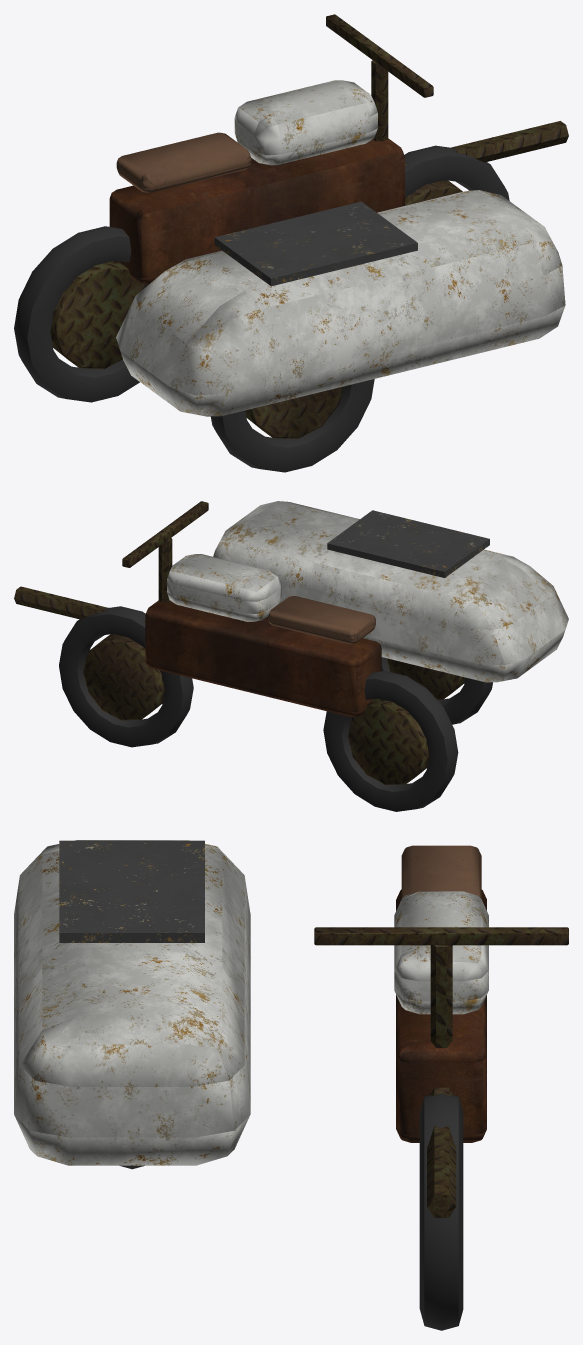
File: veh_moto.gltf
3 renders of one model, top to bottom at view 1: azimuth 30°, elevation 25°; view 2: azimuth 150°, elevation 25°; view 3: azimuth 270°, elevation 25°, orthographic. The views are drawn at different scales.
Parts seen in each view (by area): view 1: box.004, box, torus.001, box.005, box.001, cyl.001, torus.002, box.002, torus, cyl.002, cyl.004, box.003 (+2 smaller); view 2: box.004, box, torus.001, torus, box.005, box.001, cyl.001, cyl, box.002, cyl.004, torus.002, cyl.002 (+2 smaller); view 3: box.004, box.005, box, box.001, torus, box.003, box.002, cyl.004, cyl.003.
Boxes of the visible parts, <box> form: box.004: <box>116,190,565,416</box>; box: <box>109,138,404,283</box>; torus.001: <box>14,226,149,402</box>; box.005: <box>214,201,417,286</box>; box.001: <box>234,80,377,165</box>; cyl.001: <box>50,260,146,368</box>; torus.002: <box>210,379,374,472</box>; box.002: <box>116,132,251,192</box>; torus: <box>404,145,509,200</box>; cyl.002: <box>245,386,343,438</box>; cyl.004: <box>405,121,568,165</box>; box.003: <box>326,14,433,97</box>; box.004: <box>213,501,568,682</box>; box: <box>145,600,381,716</box>; torus.001: <box>323,671,458,811</box>; torus: <box>59,606,193,747</box>; box.005: <box>327,510,489,577</box>; box.001: <box>167,554,281,621</box>; cyl.001: <box>347,698,428,784</box>; cyl: <box>83,634,164,720</box>; box.002: <box>268,596,375,644</box>; cyl.004: <box>14,586,145,622</box>; torus.002: <box>381,657,492,724</box>; cyl.002: <box>386,658,465,699</box>; box.004: <box>14,840,250,1165</box>; box.005: <box>59,840,204,942</box>; box: <box>396,889,486,1142</box>; box.001: <box>394,891,488,1014</box>; torus: <box>419,1093,463,1330</box>; box.003: <box>314,927,568,945</box>; box.002: <box>401,845,481,898</box>; cyl.004: <box>427,1087,456,1217</box>; cyl.003: <box>430,945,452,1047</box>.
Bounding box in the file's own units: 2.23 × 1.08 × 1.53.
6 materials, 5 textured.
